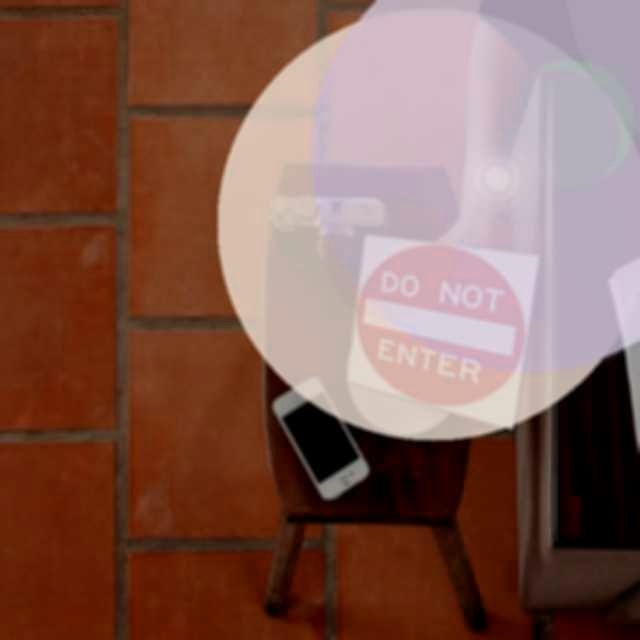DO_NOT_ENTER: (346, 233, 541, 432)
